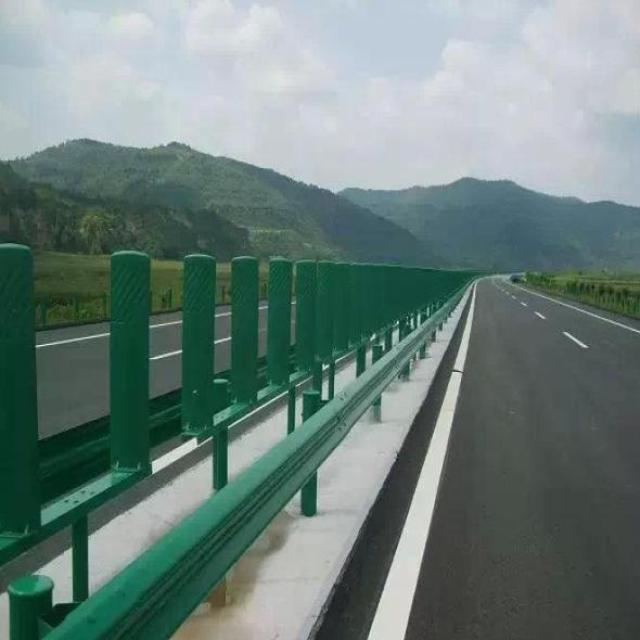Guard rail: (40, 299, 455, 640), (38, 415, 110, 503), (149, 390, 181, 445)
